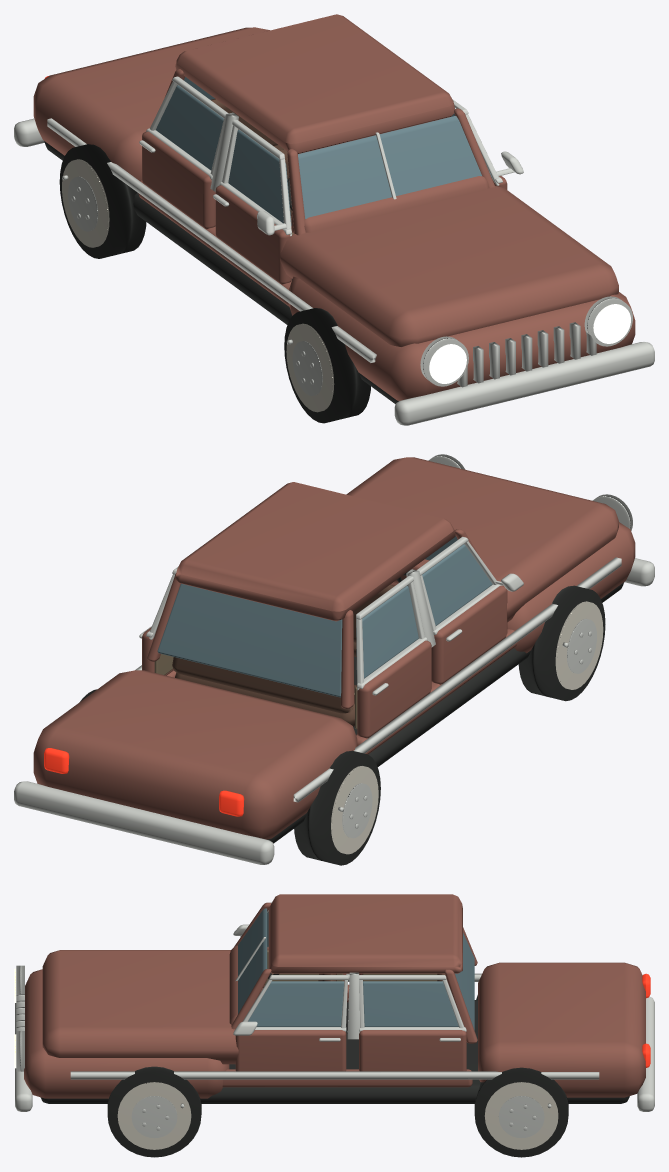
The model's file is hudson.glb.
3 renders of one model, top to bottom at view 1: azimuth 30°, elevation 25°; view 2: azimuth 150°, elevation 25°; view 3: azimuth 270°, elevation 25°, orthographic. The views are drawn at different scales.
Parts seen in each view (by area): view 1: front body, windscreen divider, split windscreen, door skin.001, wheel.001, wheel, floor pan, door skin, door window.001, door window, headlight, whitewall.001 (+5 smaller); view 2: front body, split windscreen, windscreen divider, bench cushion, door skin, door skin.001, wheel, wheel.001, floor pan, door window.001, door window, whitewall.001 (+6 smaller); view 3: front body, windscreen divider, floor pan, door skin.002, door skin.003, door window.003, door window.002, wheel.002, wheel.003, split windscreen, whitewall.003, whitewall.002 (+4 smaller).
Part boxes in pixels (x1=…): front body: x1=33, y1=14, x2=635, y2=400; windscreen divider: x1=14, y1=112, x2=654, y2=425; split windscreen: x1=184, y1=77, x2=481, y2=218; door skin.001: x1=142, y1=131, x2=215, y2=229; wheel.001: x1=59, y1=144, x2=146, y2=258; wheel: x1=284, y1=308, x2=370, y2=423; floor pan: x1=44, y1=141, x2=398, y2=403; door skin: x1=215, y1=185, x2=291, y2=284; door window.001: x1=156, y1=85, x2=223, y2=170; door window: x1=228, y1=130, x2=291, y2=225; headlight: x1=429, y1=304, x2=630, y2=383; whitewall.001: x1=62, y1=159, x2=109, y2=247; front body: x1=33, y1=457, x2=635, y2=839; split windscreen: x1=157, y1=536, x2=457, y2=697; windscreen divider: x1=14, y1=454, x2=654, y2=864; bench cushion: x1=172, y1=584, x2=394, y2=726; door skin: x1=431, y1=585, x2=507, y2=684; door skin.001: x1=357, y1=640, x2=431, y2=738; wheel: x1=518, y1=585, x2=605, y2=701; wheel.001: x1=294, y1=750, x2=380, y2=865; floor pan: x1=267, y1=571, x2=624, y2=843; door window.001: x1=356, y1=585, x2=418, y2=678; door window: x1=422, y1=544, x2=492, y2=625; whitewall.001: x1=331, y1=766, x2=378, y2=854; front body: x1=24, y1=894, x2=645, y2=1098; windscreen divider: x1=15, y1=924, x2=654, y2=1111; floor pan: x1=40, y1=973, x2=629, y2=1103; door skin.002: x1=235, y1=1030, x2=346, y2=1071; door skin.003: x1=359, y1=1030, x2=466, y2=1071; door window.003: x1=363, y1=981, x2=458, y2=1026; door window.002: x1=248, y1=981, x2=344, y2=1026; wheel.002: x1=107, y1=1066, x2=201, y2=1157; wheel.003: x1=474, y1=1067, x2=568, y2=1157; split windscreen: x1=238, y1=908, x2=474, y2=1030; whitewall.003: x1=484, y1=1082, x2=558, y2=1149; whitewall.002: x1=117, y1=1082, x2=191, y2=1149.
Bounding box in the file's own units: 2.08 × 1.57 × 5.05.
